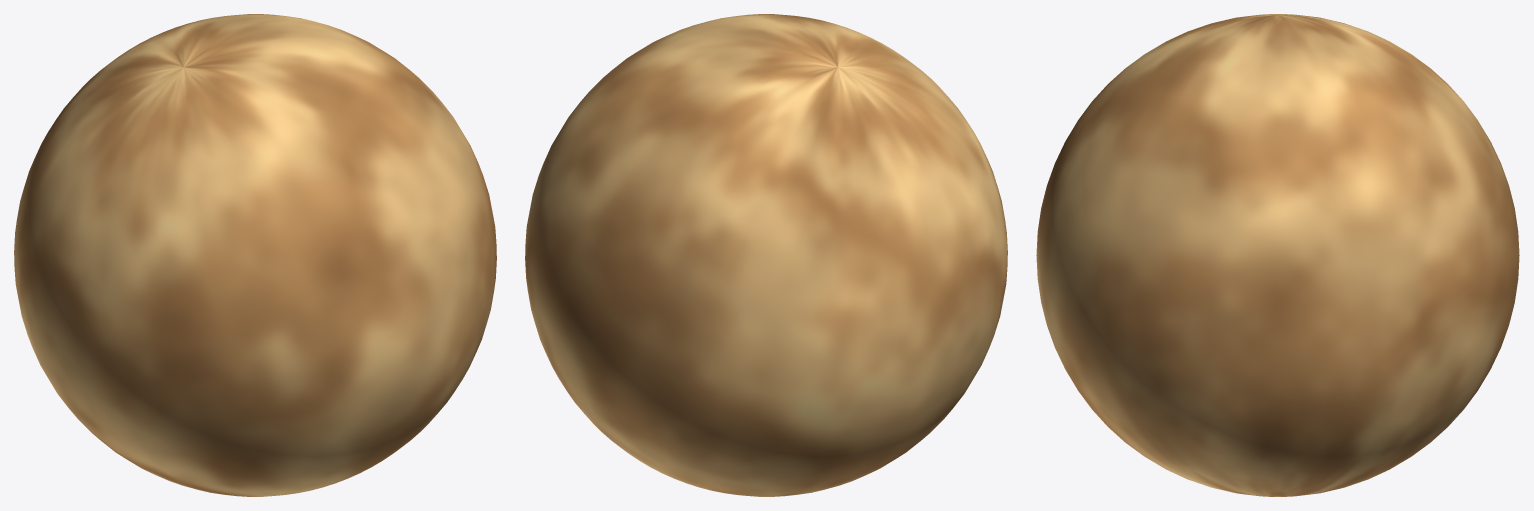
File: dunarr.glb
3 renders of one model, left to right at view 1: azimuth 30°, elevation 25°; view 2: azimuth 150°, elevation 25°; view 3: azimuth 270°, elevation 25°, orthographic.
Parts seen in each view (by area): view 1: Surface; view 2: Surface; view 3: Surface.
Part boxes in pixels (x1,y1,x2,y2): Surface: (14, 14, 496, 496); Surface: (525, 14, 1007, 496); Surface: (1036, 14, 1519, 496).
Bounding box in the file's own units: 2 × 2 × 2.
1 material, 1 textured.
